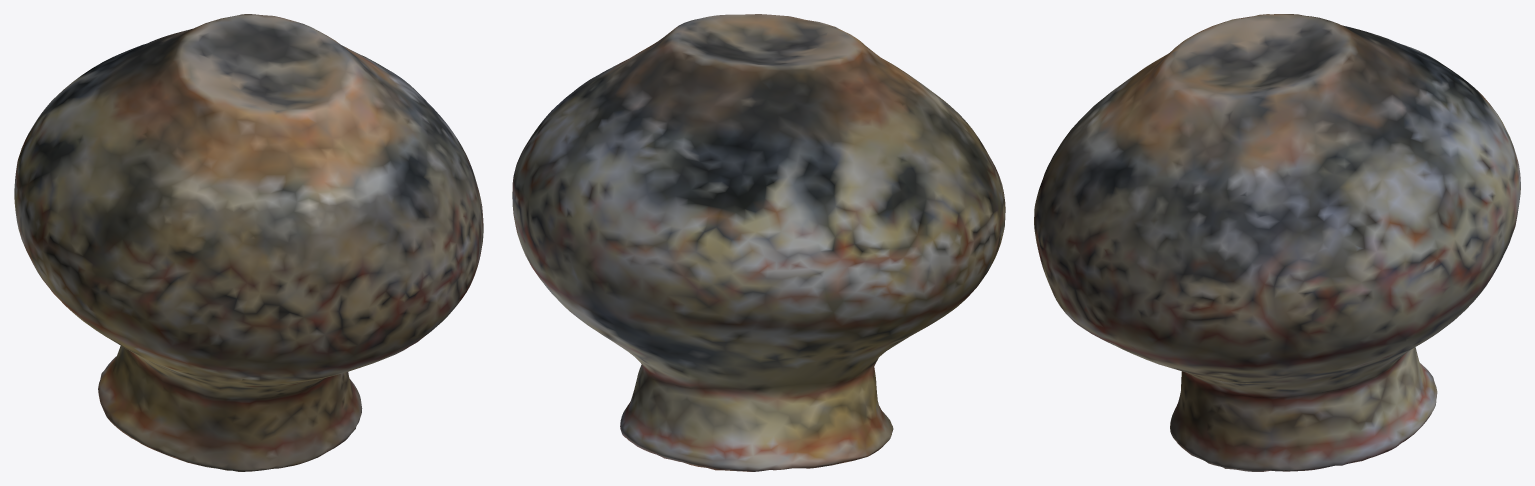
The model's file is BIEN24.obj.
The picture shows the model from 3 angles, left to right: view 1: azimuth 30°, elevation 25°; view 2: azimuth 150°, elevation 25°; view 3: azimuth 270°, elevation 25°; orthographic projection. The views are drawn at different scales.
Size of the model in its own units: 4.73 by 4.2 by 4.73.
